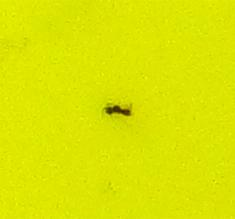Hymenoptera: (100, 100, 135, 119)
